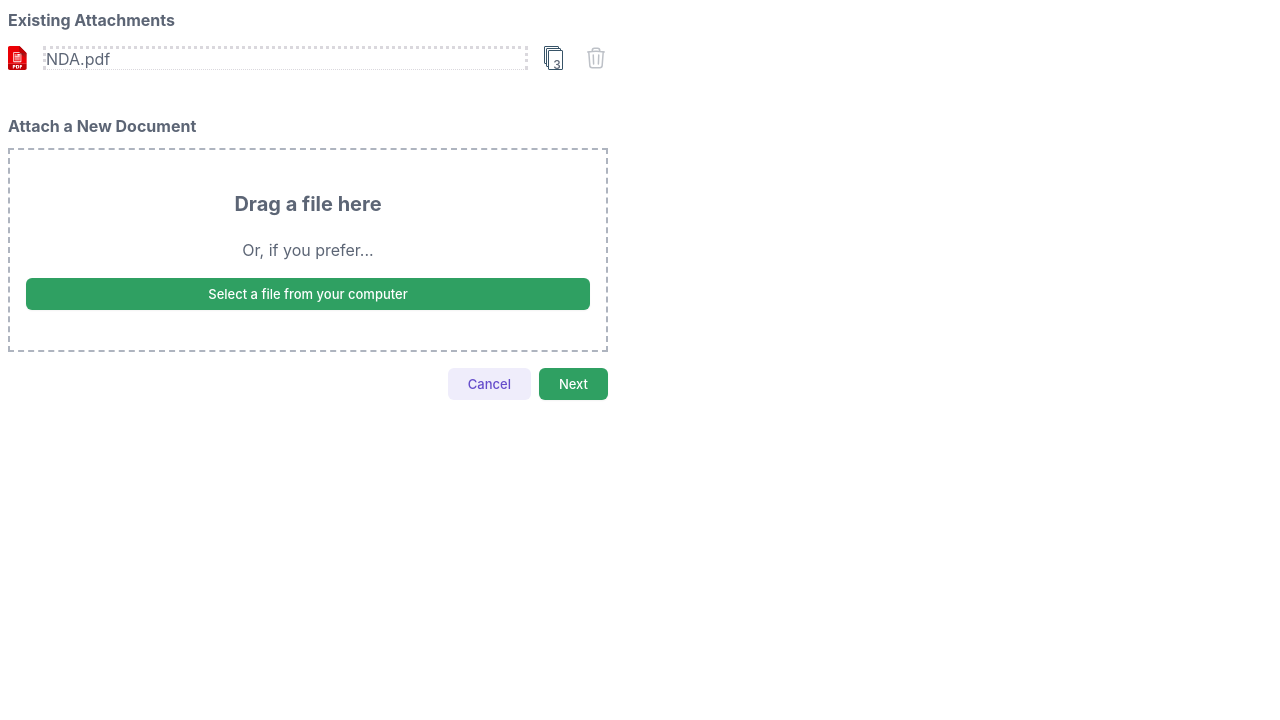
TemplateAttachments › refuses to delete the last attachment
This screenshot has width=1280, height=720.
Check: the text "NDA.pdf" is shown, box [43,46,528,70]
Click the button named "Delete NDA.pdf" at (596,58), box [584,46,608,70]
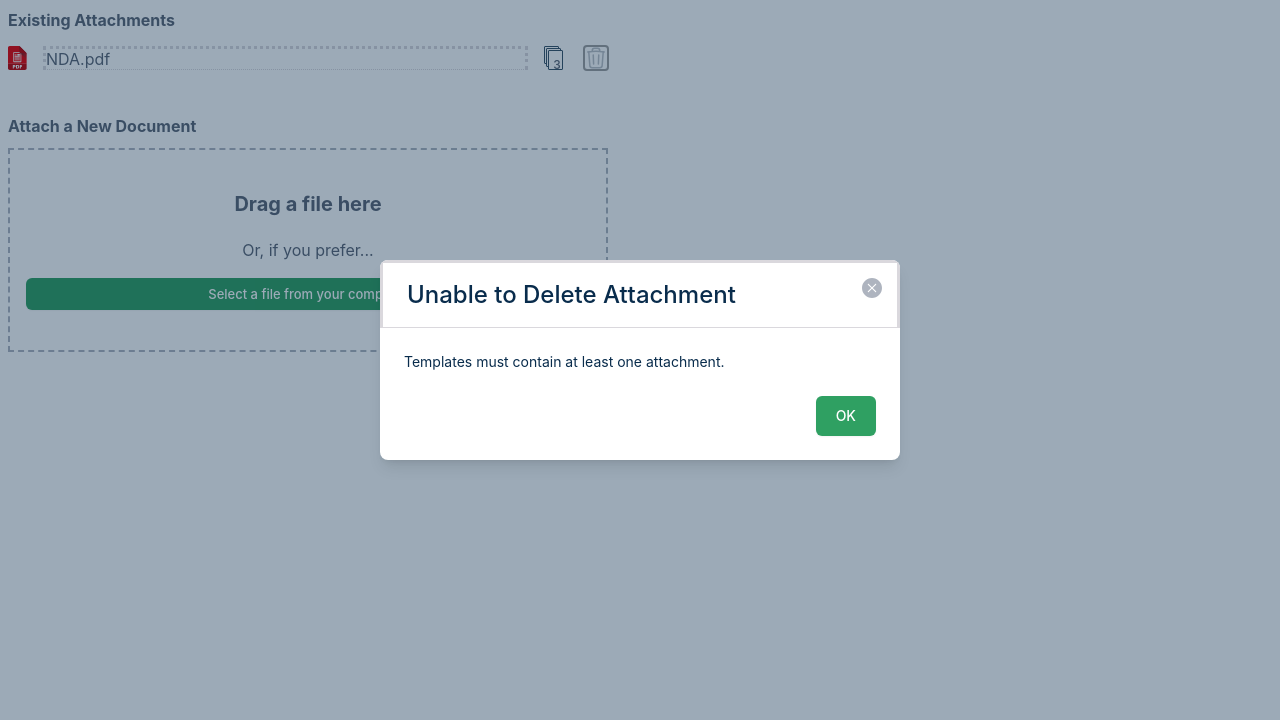
Check: the text "Unable to Delete Attachment" is shown, box [407,279,736,311]
Click the button "OK" at (846,416), box [816,396,876,436]
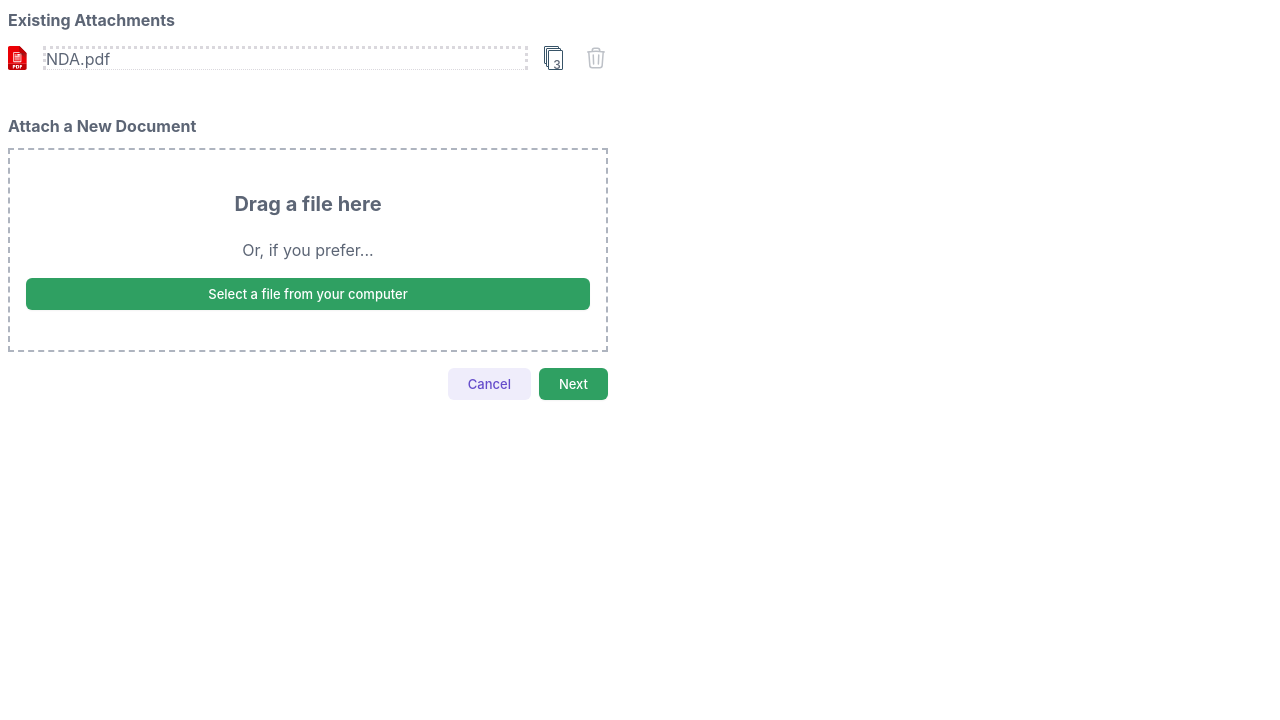
Check: the text "Unable to Delete Attachment" is gone
